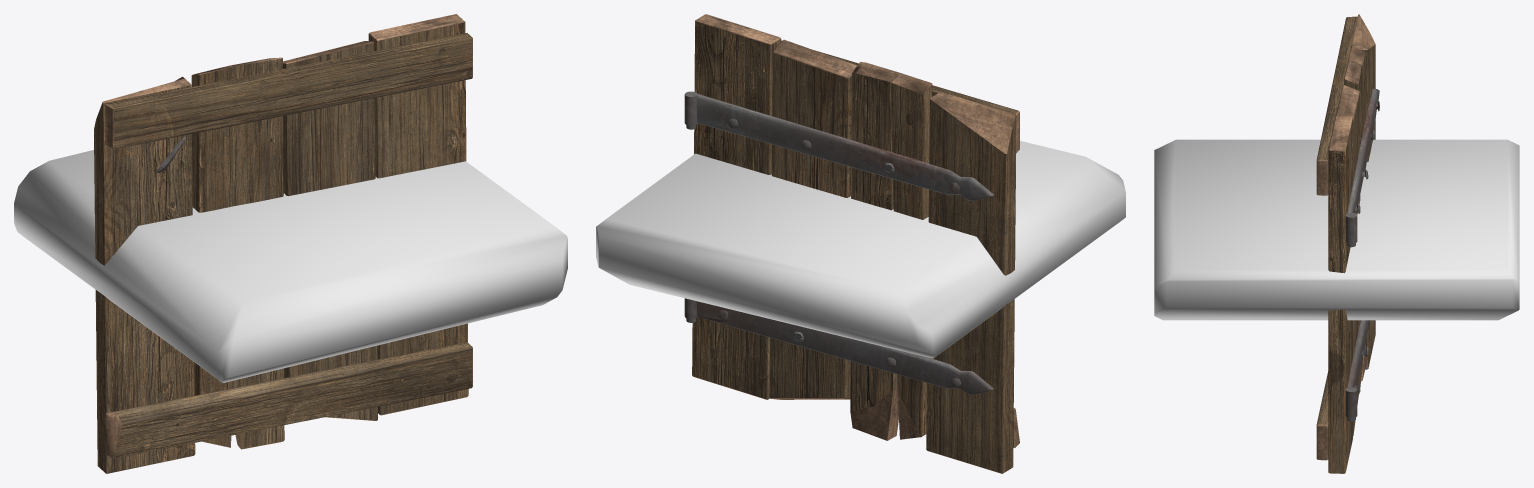
Rendered from SM_Wall_Window_A_P4_.fbx.
3 views of the same model, side by side, from view 1: azimuth 30°, elevation 25°; view 2: azimuth 150°, elevation 25°; view 3: azimuth 270°, elevation 25° (orthographic). The views are drawn at different scales.
Parts seen in each view (by area): view 1: SM_Wall_Window_A_P4_, SM_Wall_Window_A_P4__ConvexHulls; view 2: SM_Wall_Window_A_P4_, SM_Wall_Window_A_P4__ConvexHulls; view 3: SM_Wall_Window_A_P4__ConvexHulls, SM_Wall_Window_A_P4_.
Boxes of the visible parts, x1,y1,x2,y2 form: SM_Wall_Window_A_P4_: (94,14,472,473); SM_Wall_Window_A_P4__ConvexHulls: (14,150,567,382); SM_Wall_Window_A_P4_: (684,14,1019,473); SM_Wall_Window_A_P4__ConvexHulls: (596,141,1125,358); SM_Wall_Window_A_P4__ConvexHulls: (1154,139,1519,320); SM_Wall_Window_A_P4_: (1316,14,1379,473).
Size of the model in its own units: 0.8843 by 0.9235 by 0.9255.
